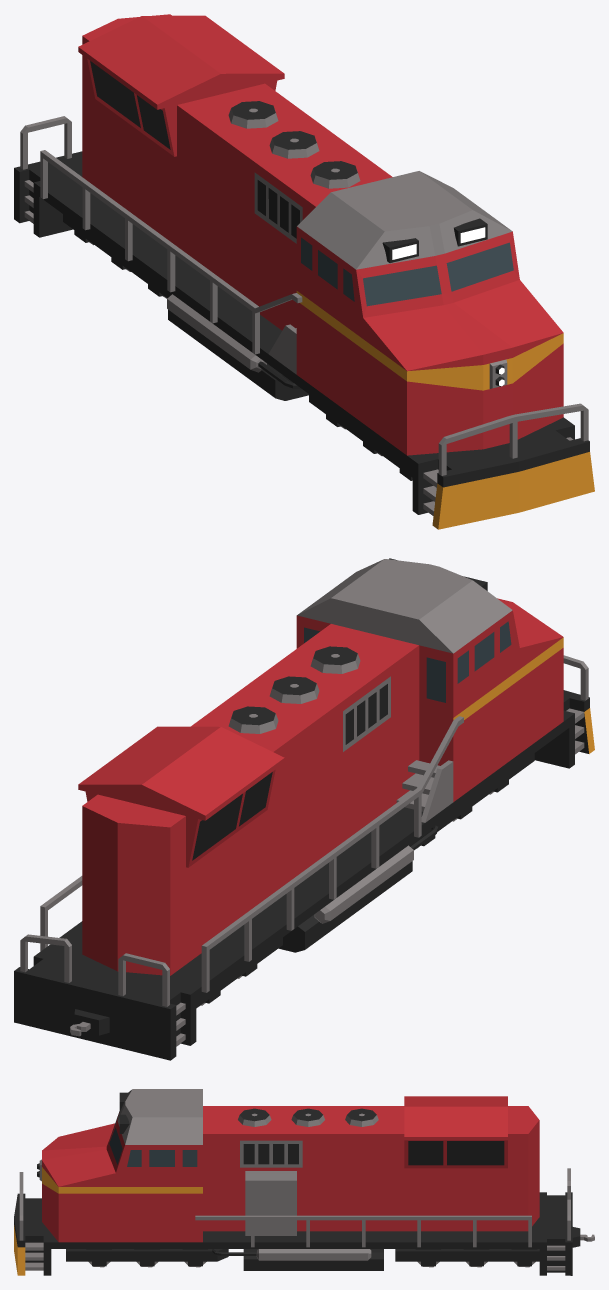
File: vehicles_train-freight-big.fbx
3 views of the same model, one above another, from view 1: azimuth 30°, elevation 25°; view 2: azimuth 150°, elevation 25°; view 3: azimuth 270°, elevation 25° (orthographic). The views are drawn at different scales.
Parts seen in each view (by area): view 1: train_freight_big_base, train_freight_big_base_wheel_frame_B, train_freight_big_base_wheel_frame_F; view 2: train_freight_big_base, train_freight_big_base_wheel_frame_F, train_freight_big_base_wheel_frame_B; view 3: train_freight_big_base, train_freight_big_base_wheel_frame_F, train_freight_big_base_wheel_frame_B.
Boxes of the visible parts, x1,y1,x2,y2 form: train_freight_big_base: (14, 14, 594, 529); train_freight_big_base_wheel_frame_B: (63, 214, 171, 297); train_freight_big_base_wheel_frame_F: (309, 394, 412, 480); train_freight_big_base: (14, 558, 594, 1060); train_freight_big_base_wheel_frame_F: (409, 753, 534, 846); train_freight_big_base_wheel_frame_B: (196, 937, 282, 1008); train_freight_big_base: (14, 1089, 594, 1275); train_freight_big_base_wheel_frame_F: (66, 1249, 228, 1266); train_freight_big_base_wheel_frame_B: (395, 1249, 539, 1266).
Bounding box in the file's own units: 43.3 × 58.1 × 200.
